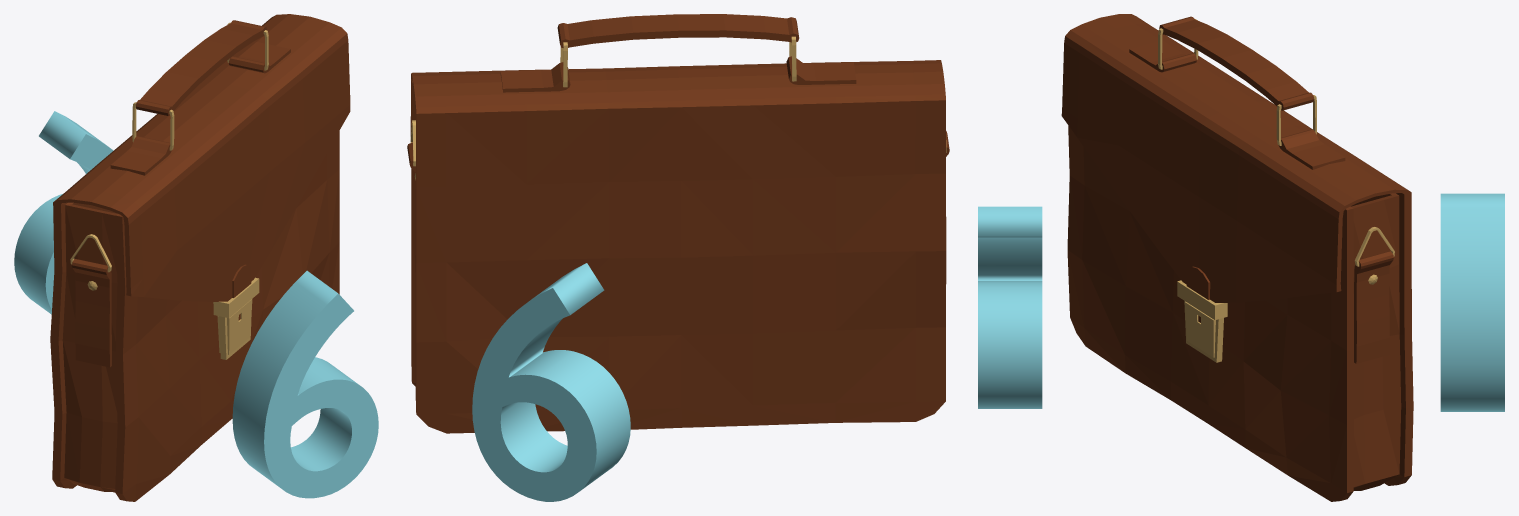
File: number6.glb
The picture shows the model from 3 angles, left to right: view 1: azimuth 30°, elevation 25°; view 2: azimuth 150°, elevation 25°; view 3: azimuth 270°, elevation 25°; orthographic projection. The views are drawn at different scales.
Visible parts, largest first — view 1: Node, Text.007, Text.001; view 2: Node, Text.001; view 3: Node, Text.001, Text.007.
Part boxes in pixels (<box>): Node: <box>50,14,350,501</box>; Text.007: <box>232,270,378,498</box>; Text.001: <box>14,111,113,314</box>; Node: <box>407,14,949,433</box>; Text.001: <box>472,263,630,501</box>; Node: <box>1061,14,1413,501</box>; Text.001: <box>1440,193,1504,411</box>; Text.007: <box>978,206,1042,408</box>.
Size of the model in its own units: 2.73 by 2.33 by 3.08.
